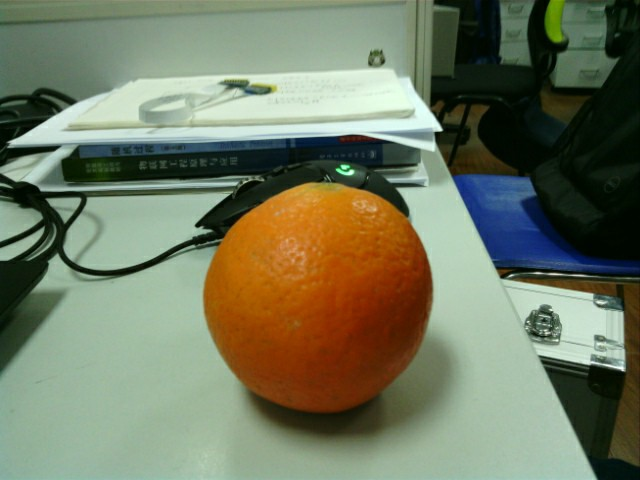normal_orange: (206, 181, 432, 411)
